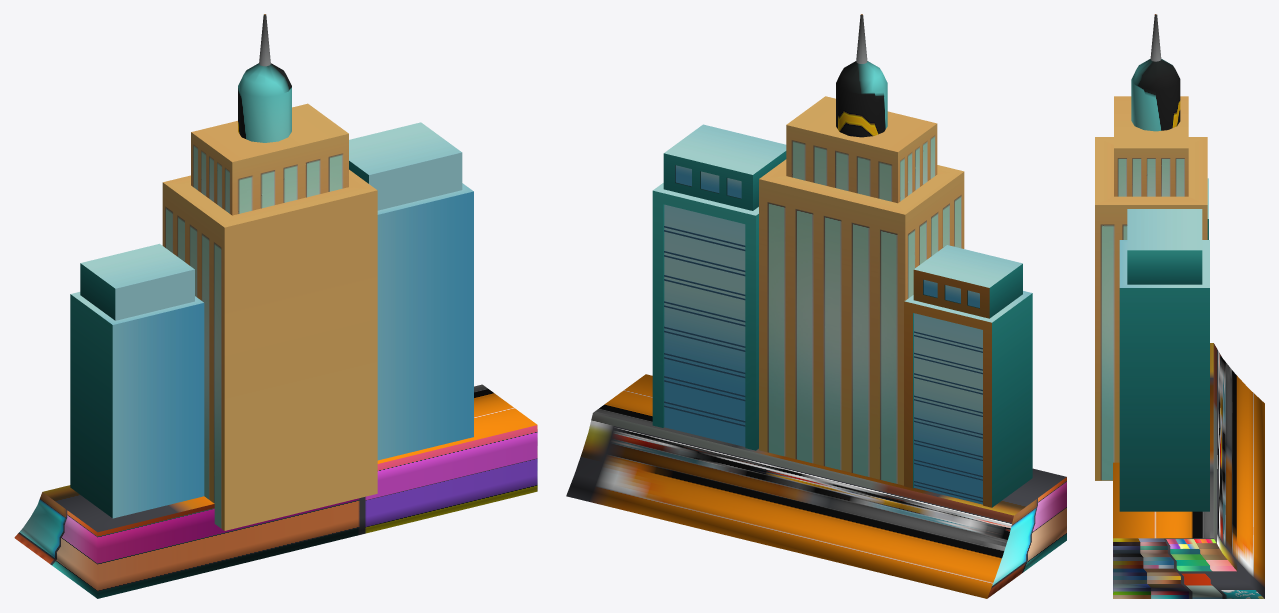
The model's file is Ramp wali building.fbx.
3 views of the same model, side by side, from view 1: azimuth 30°, elevation 25°; view 2: azimuth 150°, elevation 25°; view 3: azimuth 270°, elevation 25° (orthographic). The views are drawn at different scales.
Parts seen in each view (by area): view 1: Cube.297, Cube.296, Cube.299, Cube.298, Cylinder.039; view 2: Cube.297, Cube.296, Cube.298, Cube.299, Cylinder.039; view 3: Cube.298, Cube.296, Cube.297, Cylinder.039.
Part boxes in pixels (box(x1,y1,x2,y2)): Cube.297: box(162, 103, 377, 530); Cube.296: box(14, 384, 537, 598); Cube.299: box(70, 243, 204, 518); Cube.298: box(349, 122, 473, 460); Cylinder.039: box(238, 14, 291, 142); Cube.297: box(759, 96, 964, 485); Cube.296: box(566, 374, 1066, 598); Cube.298: box(652, 124, 786, 450); Cube.299: box(904, 245, 1032, 507); Cylinder.039: box(836, 14, 887, 137); Cube.298: box(1119, 209, 1209, 511); Cube.296: box(1113, 343, 1264, 598); Cube.297: box(1095, 96, 1207, 480); Cylinder.039: box(1131, 14, 1180, 131).
Bounding box in the file's own units: 4888 × 5524 × 1796.
